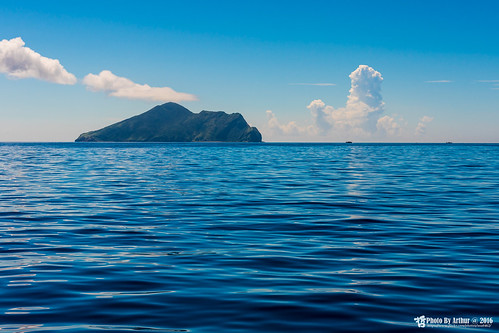turtleIsland: (74, 102, 260, 141)
